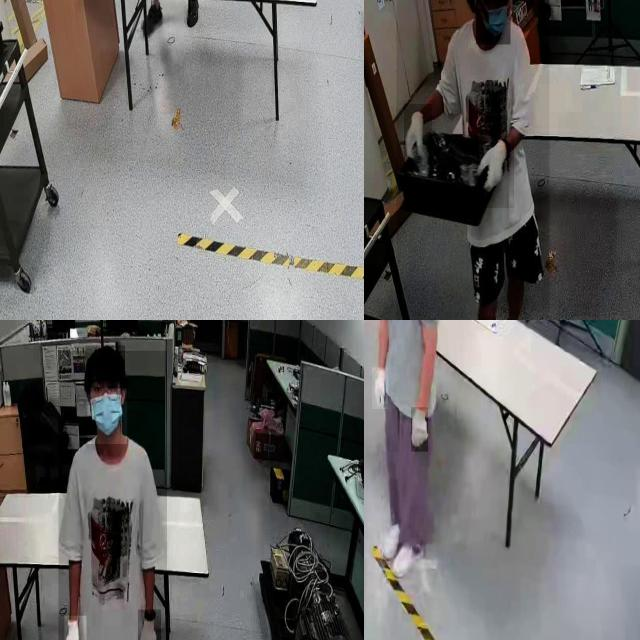face_mask: (87, 388, 127, 444), (475, 0, 510, 44)
hand_glove: (476, 133, 514, 208), (404, 104, 432, 166), (411, 407, 429, 453), (138, 609, 161, 640), (372, 367, 388, 410), (64, 615, 87, 640)
head_nohelmet: (84, 346, 126, 378)
person: (396, 0, 549, 320), (58, 350, 167, 640), (367, 320, 446, 599)
shoes: (388, 532, 427, 582), (138, 0, 163, 40), (183, 0, 202, 29)
